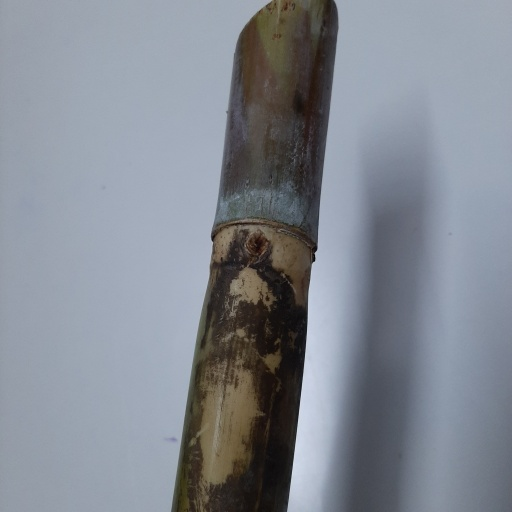Damage_Bud: (244, 230, 270, 259)
